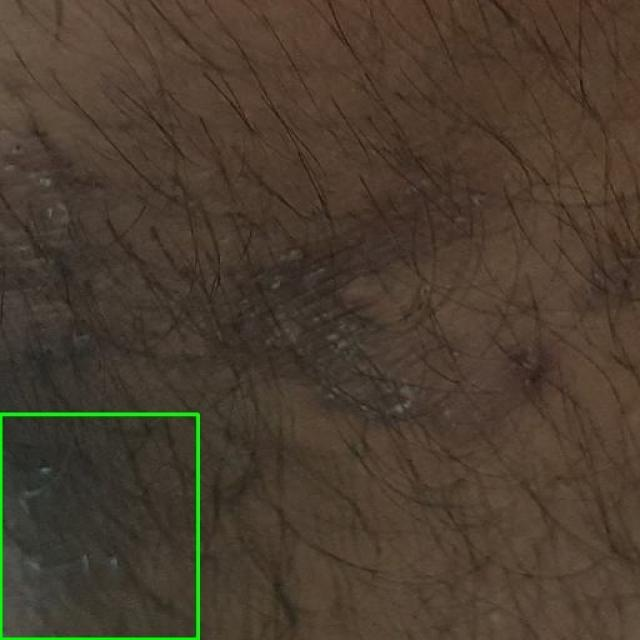Tinea Corporis: (0, 414, 198, 639)
